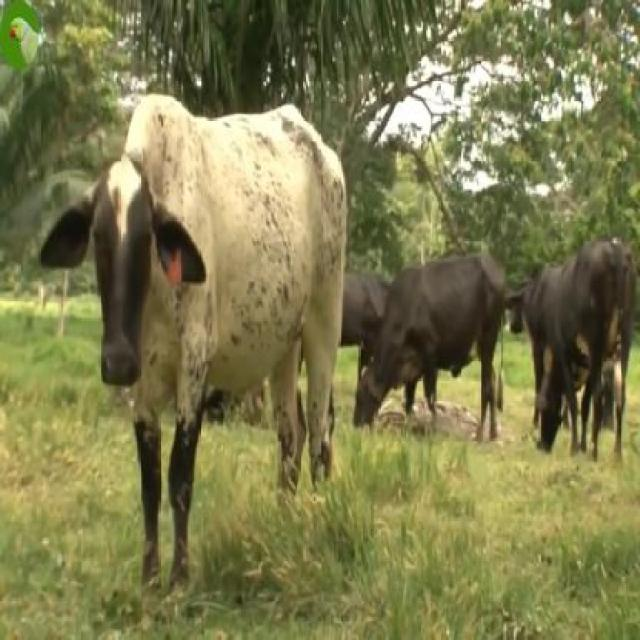Cow: (40, 94, 348, 591), (354, 250, 508, 448), (537, 235, 637, 463)
